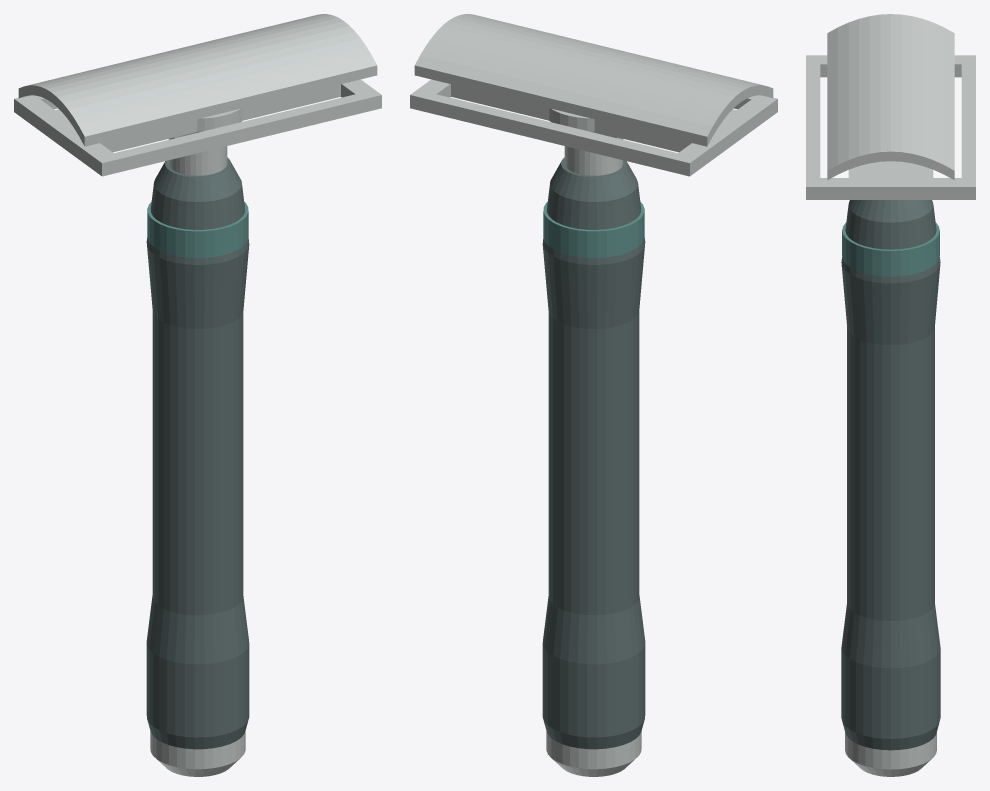
3 views of the same model, side by side, from view 1: azimuth 30°, elevation 25°; view 2: azimuth 150°, elevation 25°; view 3: azimuth 270°, elevation 25° (orthographic). The views are drawn at different scales.
Visible parts, largest first — view 1: WholeContouredLongHandle, WholeBarrelArchedBluntTopCap, WholeSlottedGuardPlateAndBluntTwinRails, WholeUpperAccentCollar, WholeRoundedHeelCap, WholeShortNeckAndHeadSeat; view 2: WholeContouredLongHandle, WholeBarrelArchedBluntTopCap, WholeSlottedGuardPlateAndBluntTwinRails, WholeUpperAccentCollar, WholeRoundedHeelCap, WholeShortNeckAndHeadSeat; view 3: WholeContouredLongHandle, WholeBarrelArchedBluntTopCap, WholeSlottedGuardPlateAndBluntTwinRails, WholeUpperAccentCollar, WholeRoundedHeelCap.
Boxes of the visible parts, x1,y1,x2,y2 form: WholeContouredLongHandle: (146, 157, 249, 749); WholeBarrelArchedBluntTopCap: (18, 14, 377, 146); WholeSlottedGuardPlateAndBluntTwinRails: (14, 79, 381, 176); WholeUpperAccentCollar: (147, 202, 248, 257); WholeRoundedHeelCap: (150, 731, 245, 776); WholeShortNeckAndHeadSeat: (168, 108, 242, 175); WholeContouredLongHandle: (542, 157, 645, 749); WholeBarrelArchedBluntTopCap: (414, 14, 773, 146); WholeSlottedGuardPlateAndBluntTwinRails: (410, 79, 777, 176); WholeUpperAccentCollar: (543, 202, 644, 257); WholeRoundedHeelCap: (546, 731, 641, 776); WholeShortNeckAndHeadSeat: (549, 108, 623, 175); WholeContouredLongHandle: (841, 200, 940, 750); WholeBarrelArchedBluntTopCap: (827, 14, 954, 180); WholeSlottedGuardPlateAndBluntTwinRails: (806, 55, 975, 199); WholeUpperAccentCollar: (842, 222, 939, 276); WholeRoundedHeelCap: (845, 732, 936, 776).
Size of the model in its own units: 0.046 by 0.106 by 0.024.
